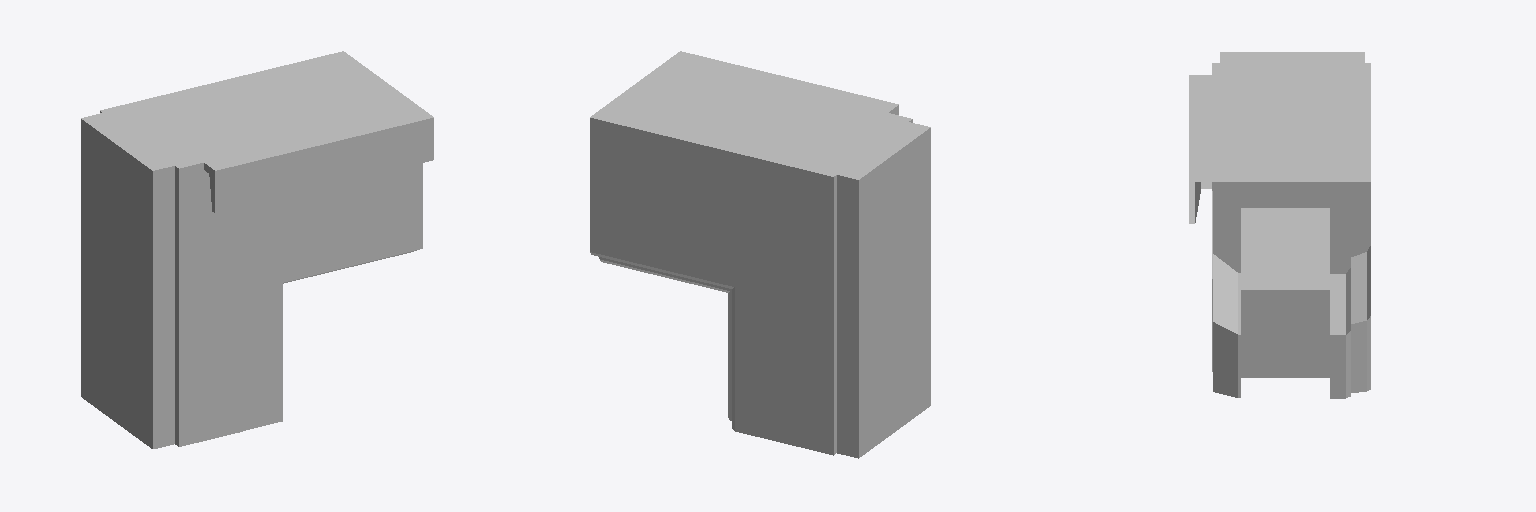
File: original-32.obj
The picture shows the model from 3 angles: view 1: azimuth 30°, elevation 25°; view 2: azimuth 150°, elevation 25°; view 3: azimuth 270°, elevation 25°; orthographic projection.
Visible parts, largest first — view 1: BF_TL1/BF_TL/mesh270/mesh270-geometry#mesh270-geometry; view 2: BF_TL1/BF_TL/mesh270/mesh270-geometry#mesh270-geometry; view 3: BF_TL1/BF_TL/mesh270/mesh270-geometry#mesh270-geometry.
Boxes of the visible parts, x1,y1,x2,y2 form: BF_TL1/BF_TL/mesh270/mesh270-geometry#mesh270-geometry: [81, 51, 433, 448]; BF_TL1/BF_TL/mesh270/mesh270-geometry#mesh270-geometry: [590, 51, 930, 458]; BF_TL1/BF_TL/mesh270/mesh270-geometry#mesh270-geometry: [1189, 52, 1370, 398].
Bounding box in the file's own units: 0.0978 × 0.0978 × 0.0577.